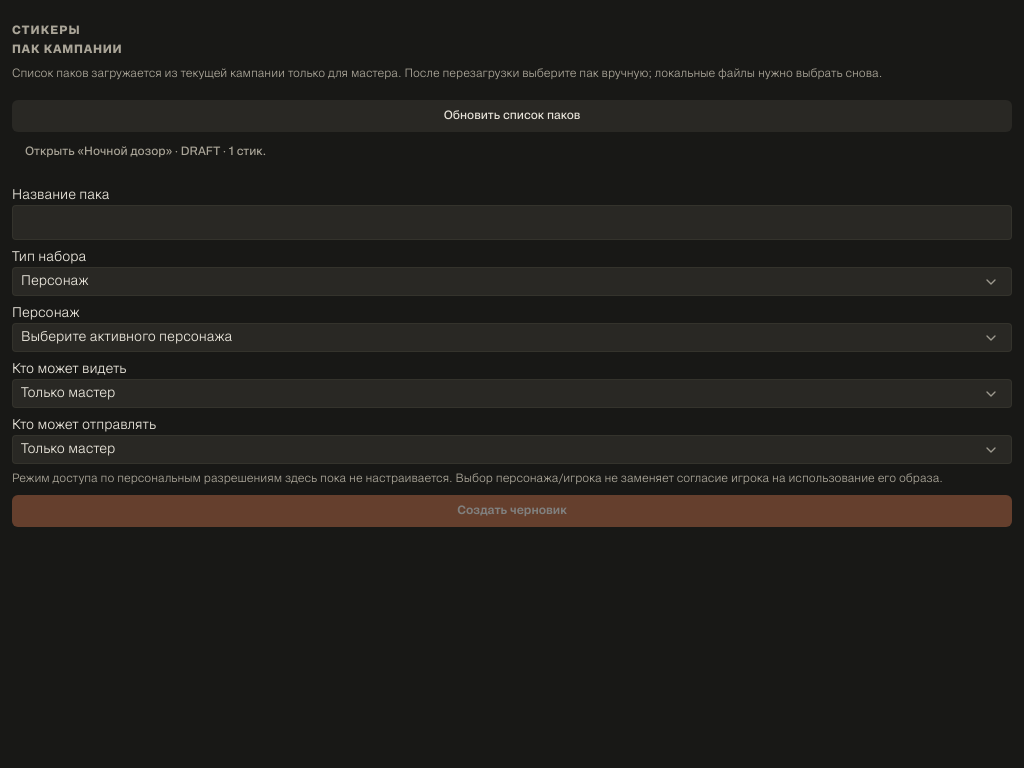
Test: StickerPackManager › resumes a server draft and marks its stickers uploaded without replay
This screenshot has width=1024, height=768.
Click the button "Открыть «Ночной дозор» · DRAFT · 1 стик.": (146, 152) [12,136,279,168]
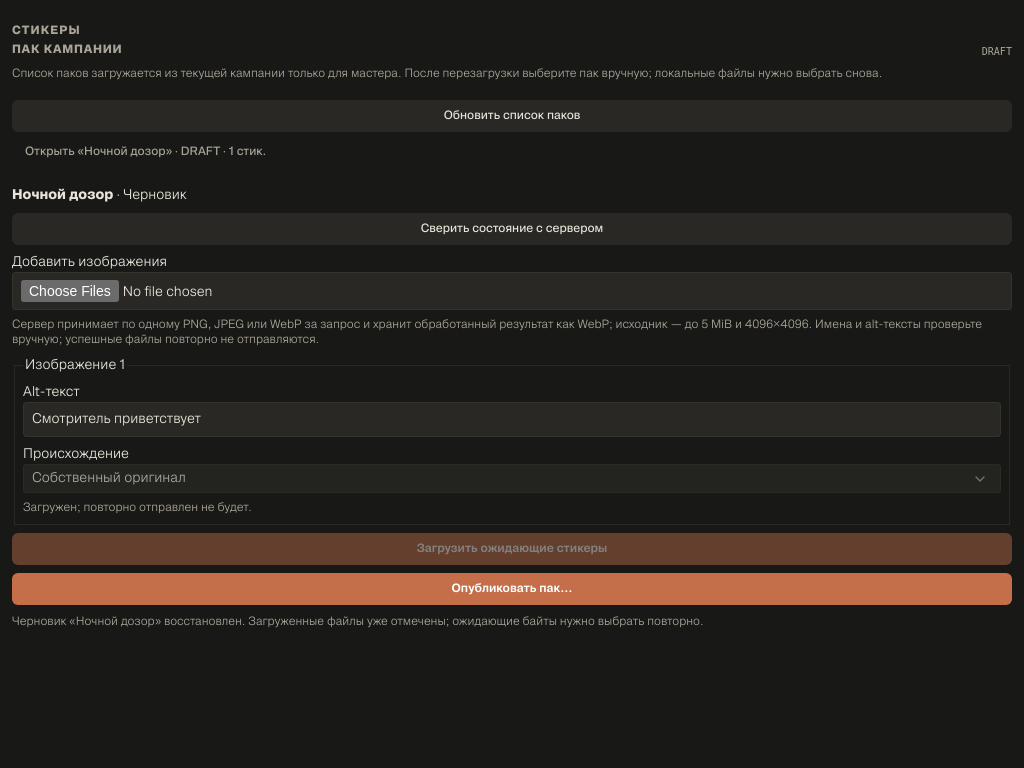
Result: the text "Загружен; повторно отправлен не будет." is shown at [23,503,252,513]
Result: the field labelled "Alt-текст" holds "Смотритель приветствует" at [23,402,1001,437]
Result: the text "Изображение 1" is shown at [23,356,127,375]
